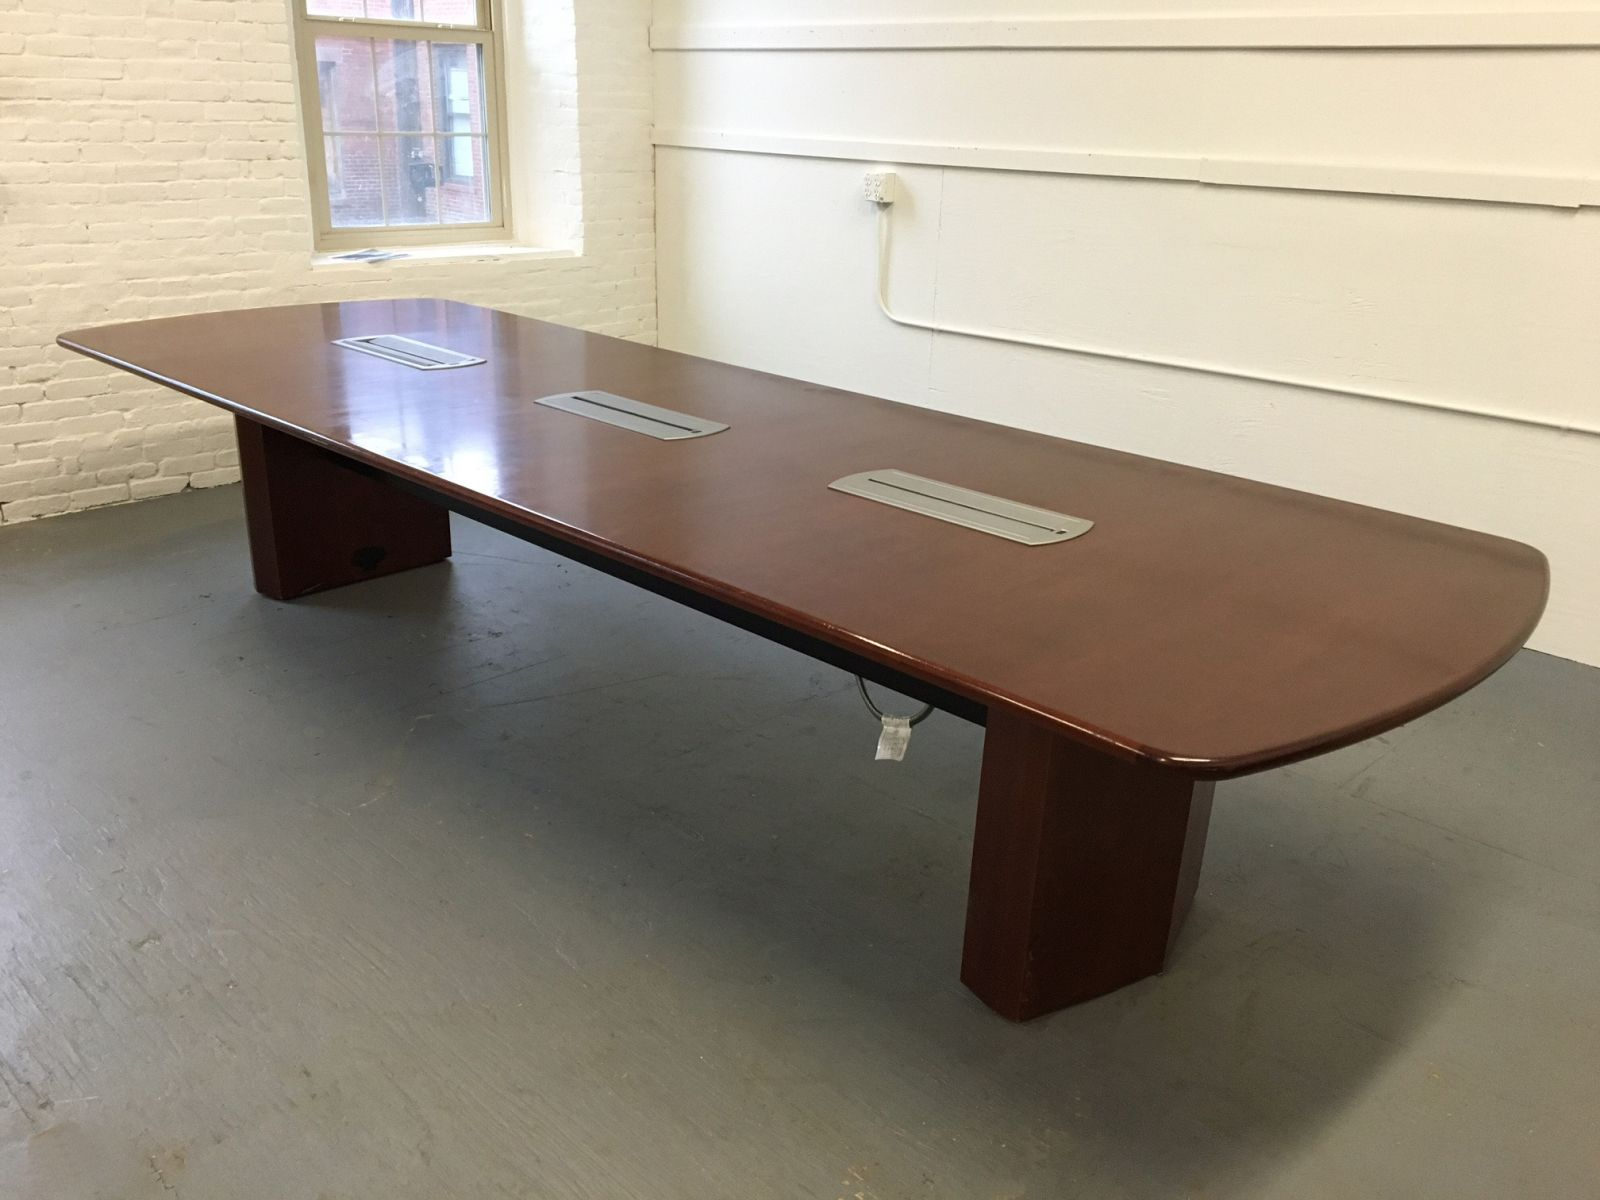conference_table: (51, 296, 1551, 1023)
